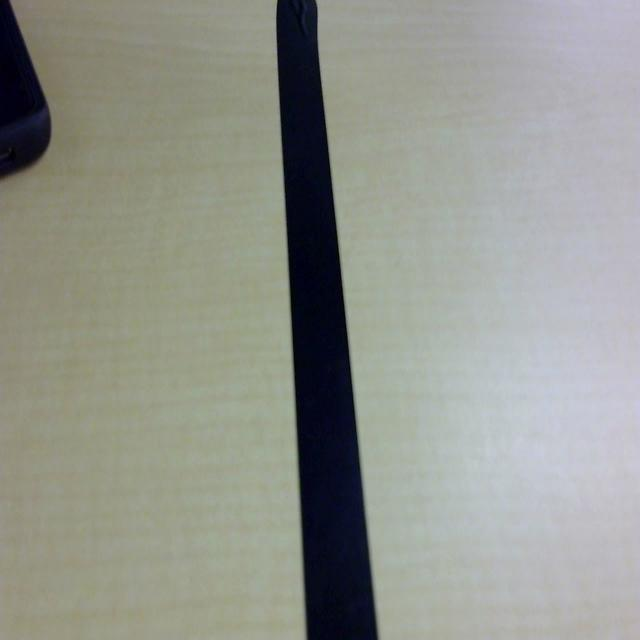tape: (266, 0, 388, 640)
